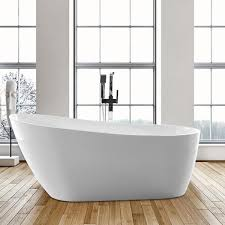bathub: (6, 108, 202, 205)
